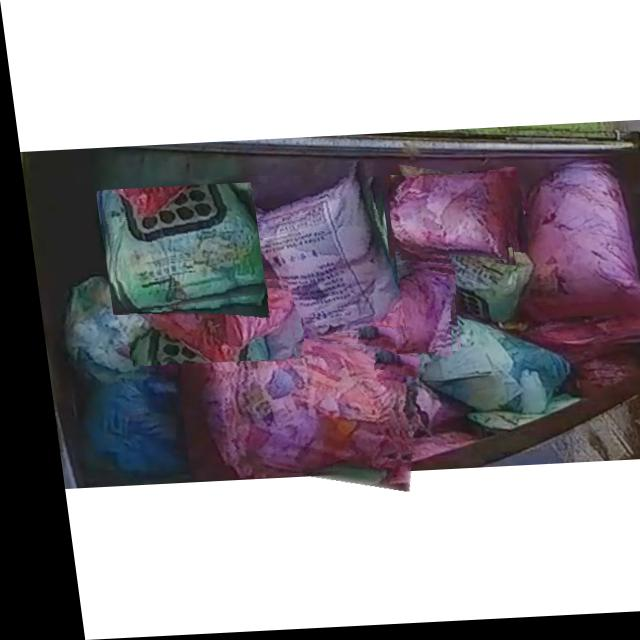general_trashbag: (96, 187, 257, 311)
other_trashbag: (172, 325, 391, 476), (238, 171, 394, 342), (513, 172, 640, 324), (118, 281, 282, 364), (384, 180, 518, 266), (352, 267, 448, 357)
